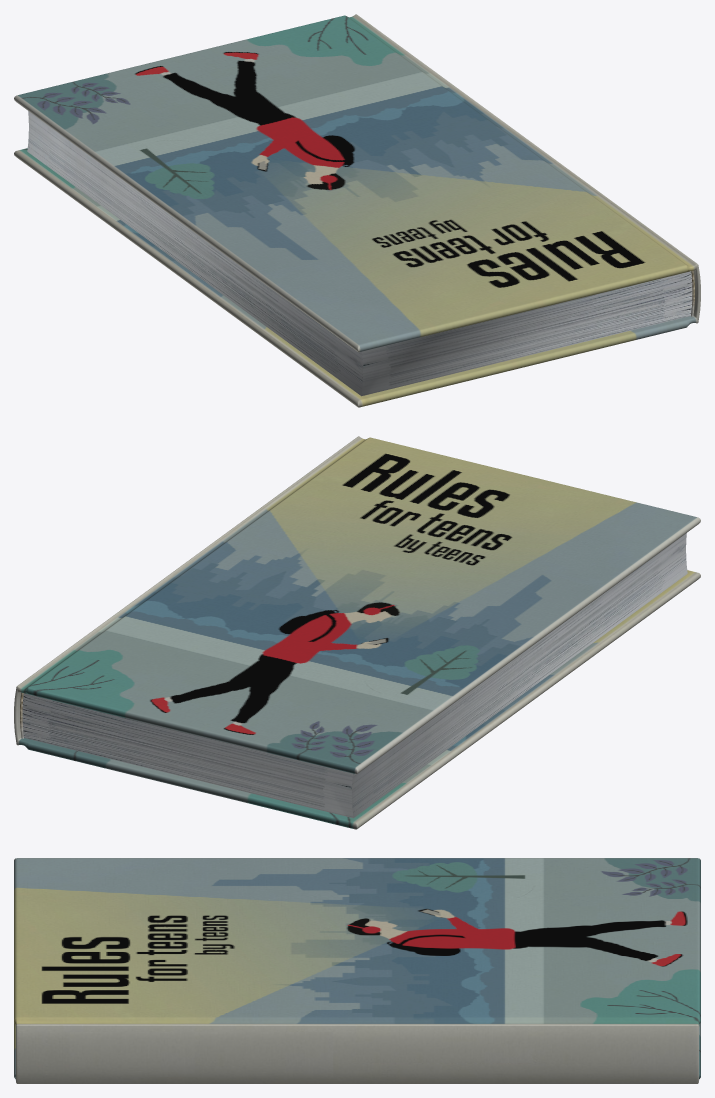
The model's file is book.glb.
The picture shows the model from 3 angles, top to bottom: view 1: azimuth 30°, elevation 25°; view 2: azimuth 150°, elevation 25°; view 3: azimuth 270°, elevation 25°; orthographic projection.
Parts seen in each view (by area): view 1: Book; view 2: Book; view 3: Book.
Boxes of the visible parts, x1=… form: Book: x1=14, y1=14, x2=700, y2=407; Book: x1=14, y1=436, x2=700, y2=829; Book: x1=14, y1=858, x2=700, y2=1083.
Bounding box in the file's own units: 0.3 × 0.052 × 0.519.
Materials: 1 (1 with a texture image).
